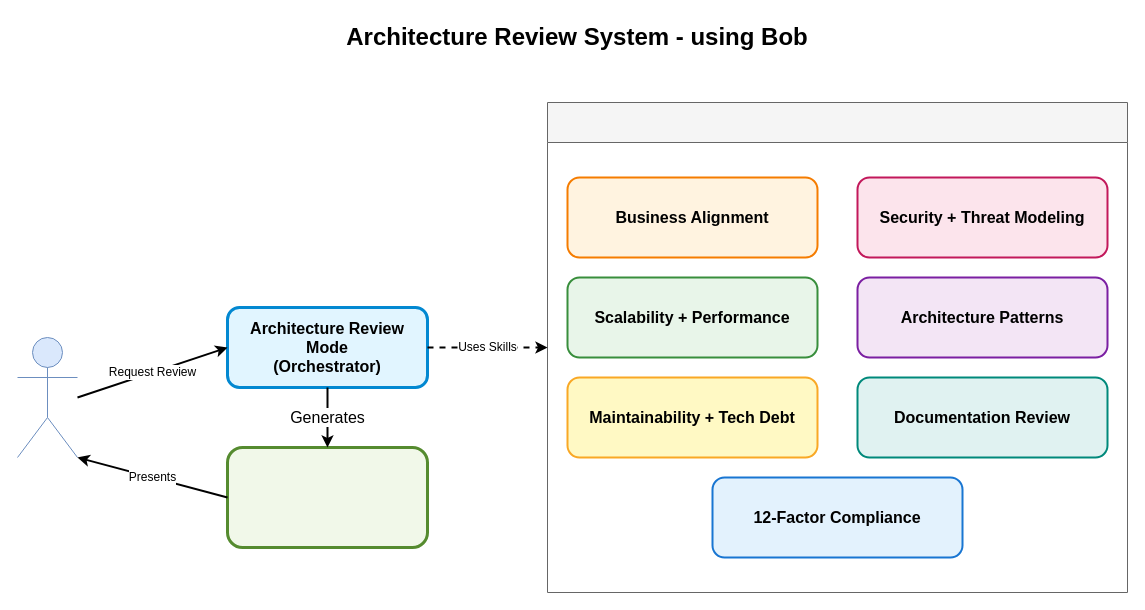
This 1145x610 diagram has some shape labels left out. The shapes that lost their labels are listed below. From the top down, each one's box as (x1, y1, x2, y2) in pixels, then its label:
(546, 102, 1128, 592): Reusable Review Skills
(16, 336, 78, 458): Architect
(226, 446, 428, 548): Structured Review Report
